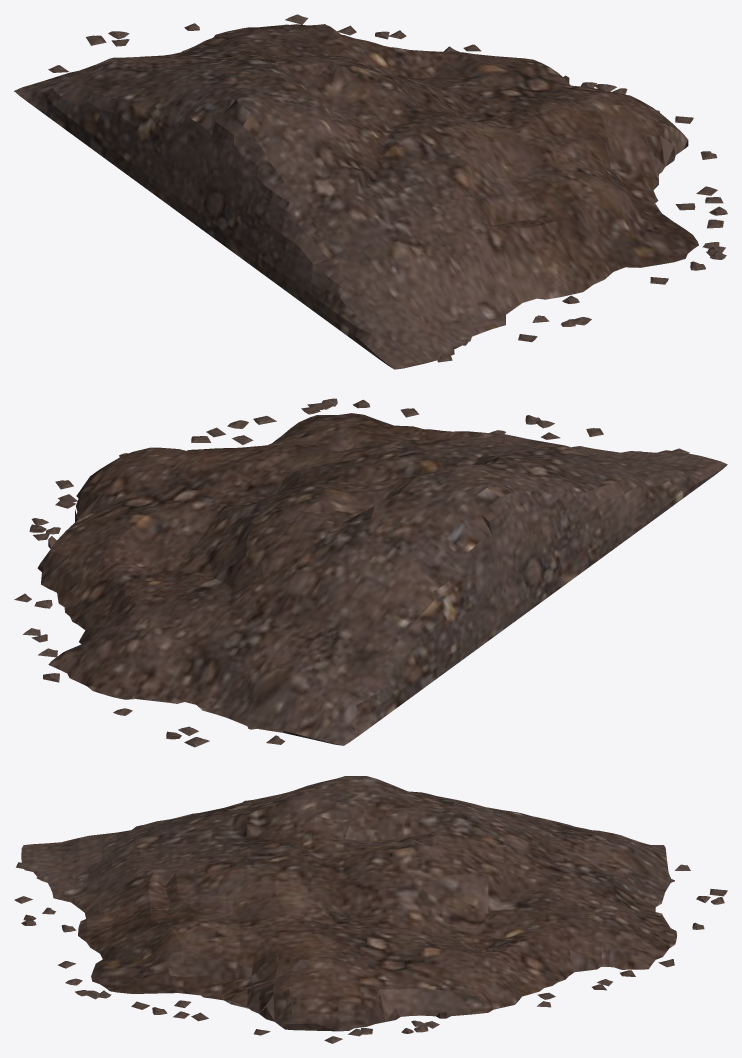
The model's file is pileofdirt.glb.
3 renders of one model, top to bottom at view 1: azimuth 30°, elevation 25°; view 2: azimuth 150°, elevation 25°; view 3: azimuth 270°, elevation 25°, orthographic. The views are drawn at different scales.
Visible parts, largest first — view 1: Pile; view 2: Pile; view 3: Pile.
Boxes of the visible parts, x1=… form: Pile: x1=14, y1=14, x2=727, y2=369; Pile: x1=14, y1=398, x2=727, y2=747; Pile: x1=14, y1=776, x2=727, y2=1043.
Bounding box in the file's own units: 3.24 × 0.6932 × 4.92.
1 material, 1 textured.
